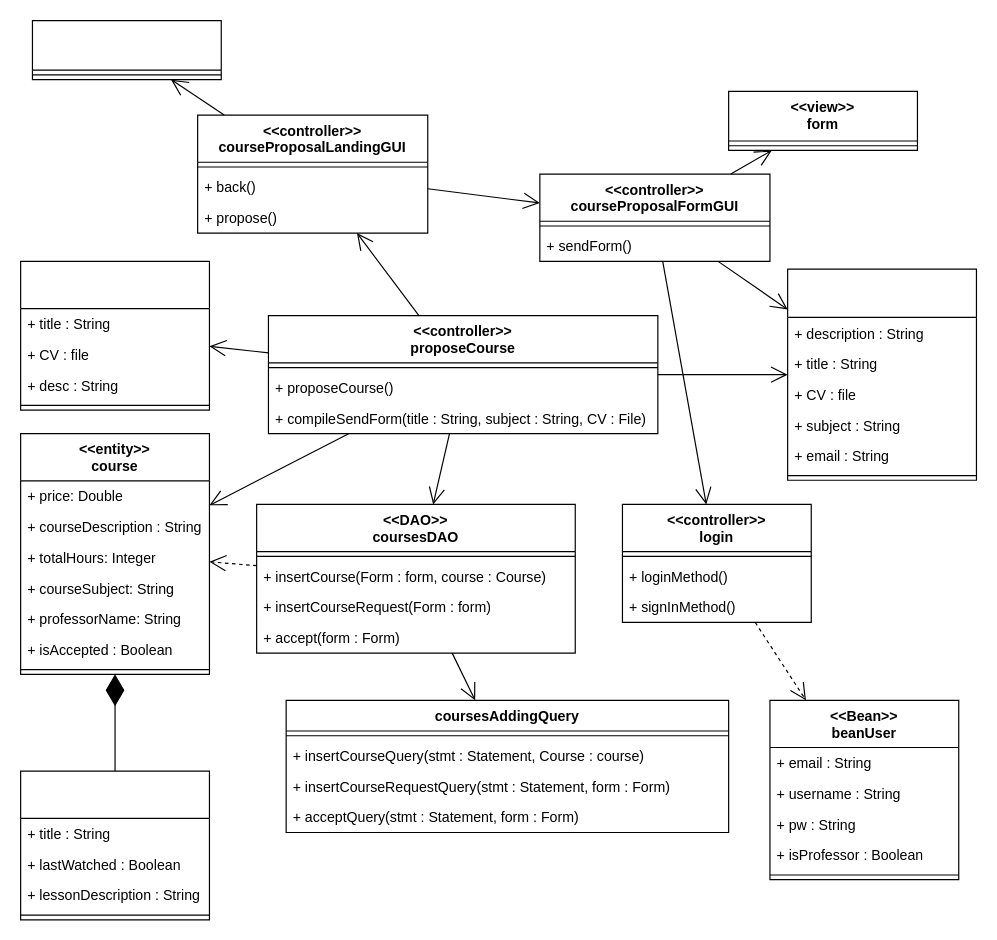
Image size: 997x940. Some labels were removed from this diagram. The shapes that lost their labels are listed below. From the top down, each one's box as (x1, y1, x2, y2) in pixels, then its label:
(31, 19, 221, 80): <<view>> landingProposal
(19, 260, 209, 410): <<entity>> form
(786, 268, 976, 480): <<bean>> formBean
(19, 770, 209, 920): <<entity>> lesson
